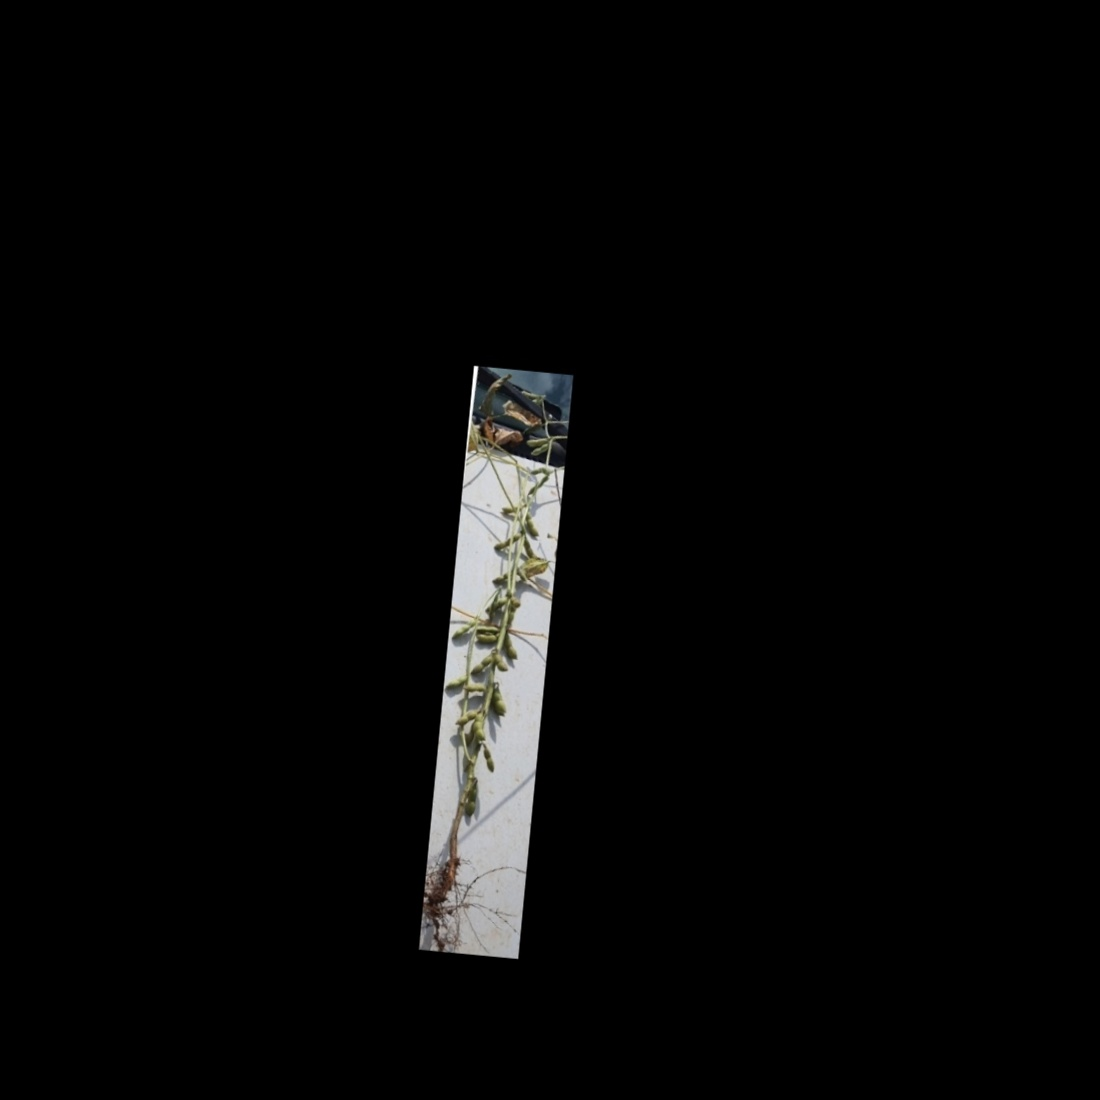pod: (469, 647, 496, 679), (450, 617, 476, 643), (492, 530, 519, 554), (463, 783, 482, 818), (452, 705, 476, 728), (470, 710, 488, 741), (502, 632, 520, 661), (524, 512, 543, 539), (445, 671, 467, 693), (482, 745, 498, 775), (463, 678, 491, 693), (474, 629, 500, 645), (493, 653, 512, 674), (524, 435, 549, 449), (530, 441, 550, 458), (523, 537, 538, 557)
soy: (423, 389, 563, 914)
